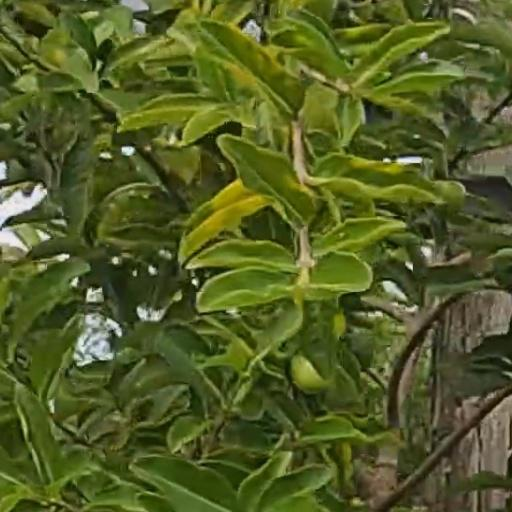acerola: (289, 354, 328, 392)
